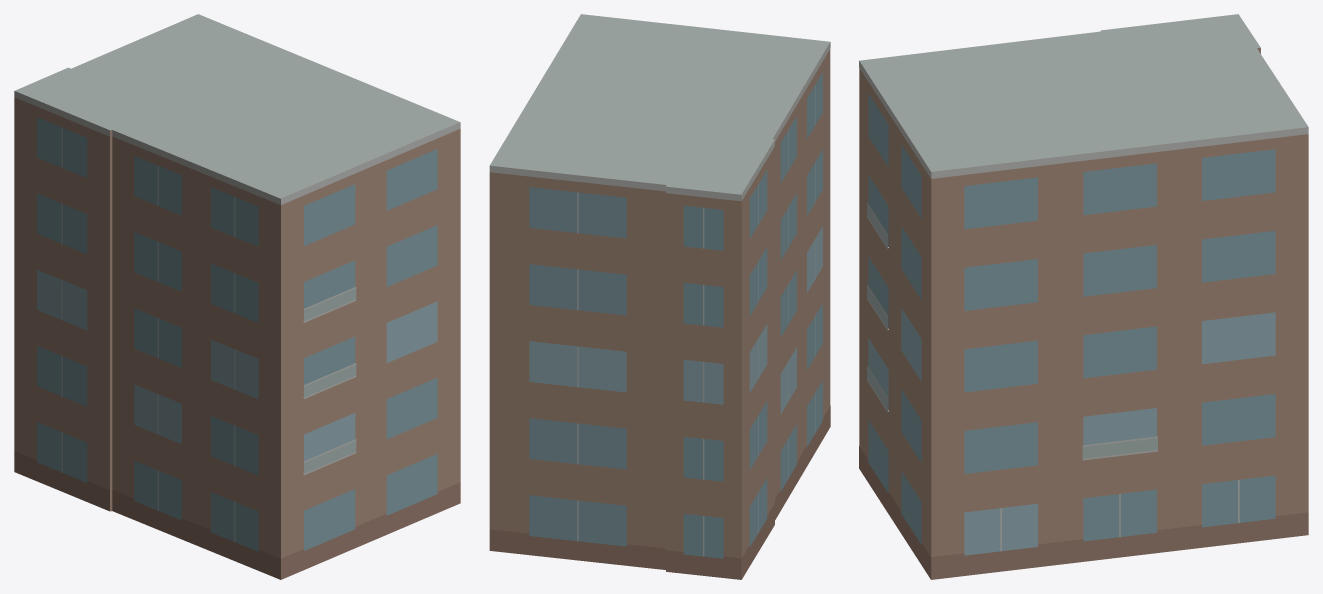
The model's file is survey-upis-32654847.glb.
3 views of the same model, side by side, from view 1: azimuth 30°, elevation 25°; view 2: azimuth 150°, elevation 25°; view 3: azimuth 270°, elevation 25° (orthographic). The views are drawn at different scales.
Visible parts, largest first — view 1: survey-upis-32654847.tmp; view 2: survey-upis-32654847.tmp; view 3: survey-upis-32654847.tmp.
Boxes of the visible parts, x1=… form: survey-upis-32654847.tmp: x1=14, y1=14, x2=460, y2=579; survey-upis-32654847.tmp: x1=489, y1=14, x2=830, y2=579; survey-upis-32654847.tmp: x1=859, y1=14, x2=1308, y2=579.
Bounding box in the file's own units: 11.97 × 14.4 × 14.39.
